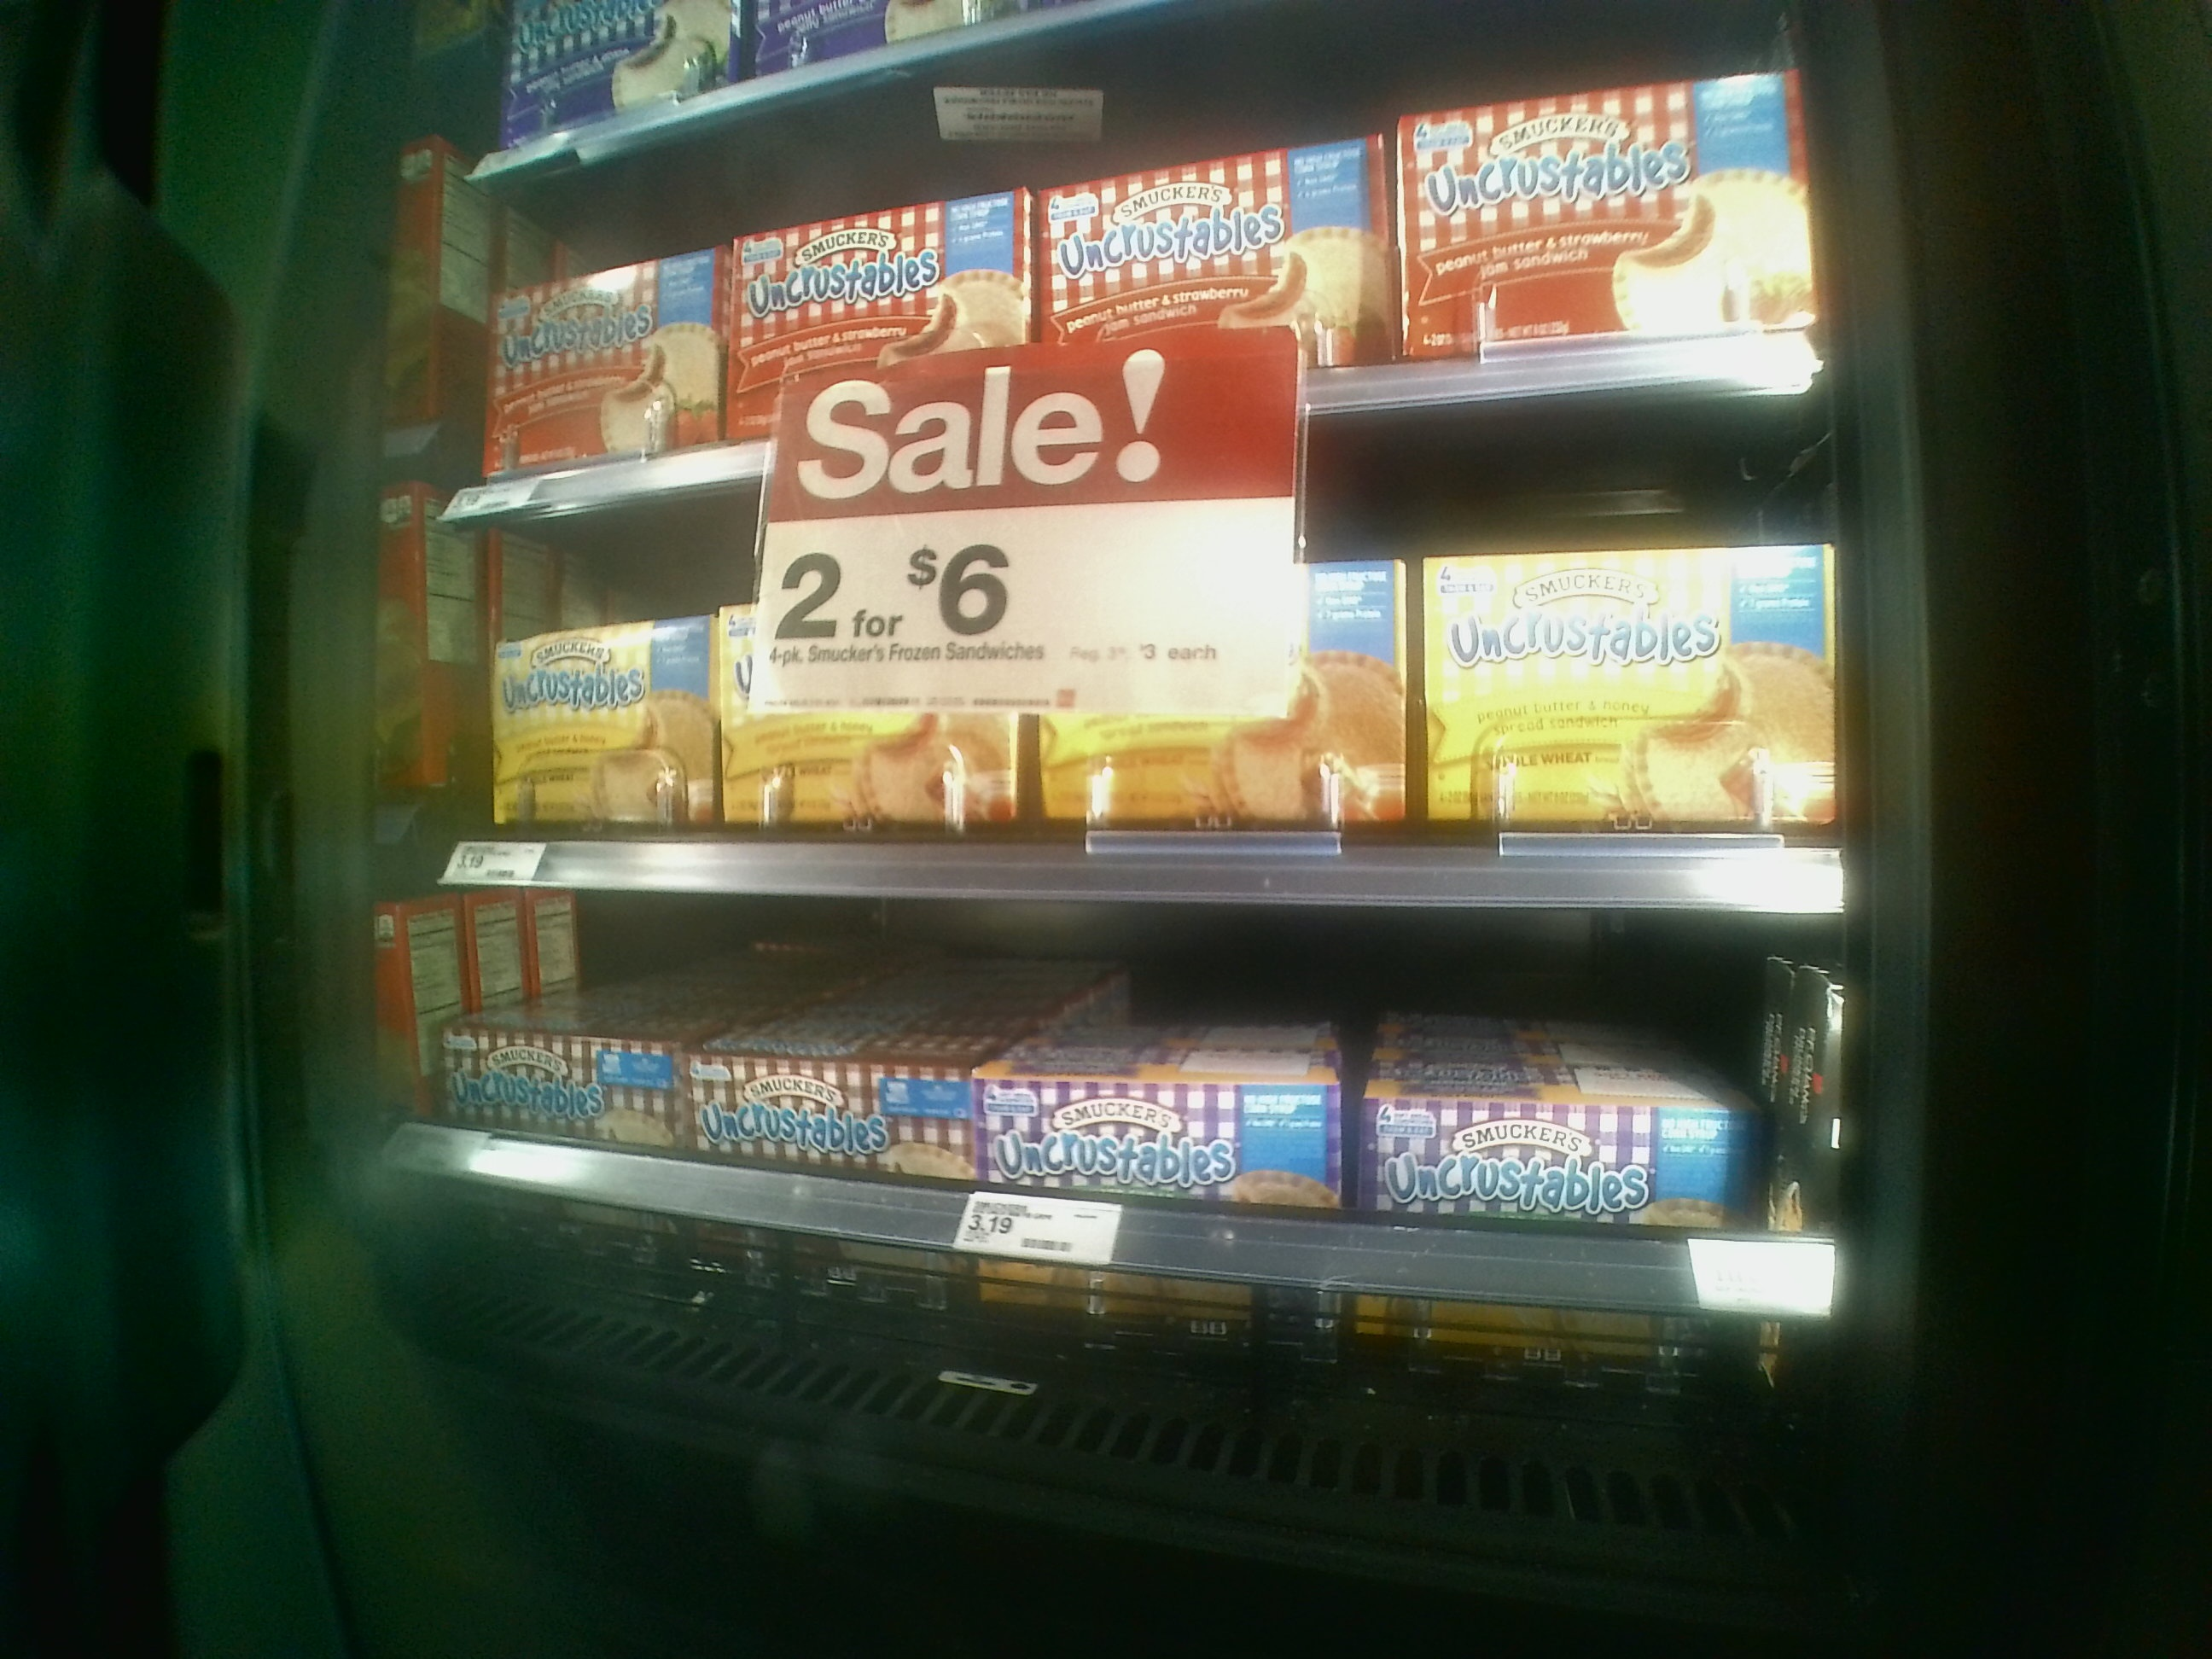shelf: (449, 904, 1843, 1478), (488, 538, 1838, 920), (462, 146, 1853, 472)
